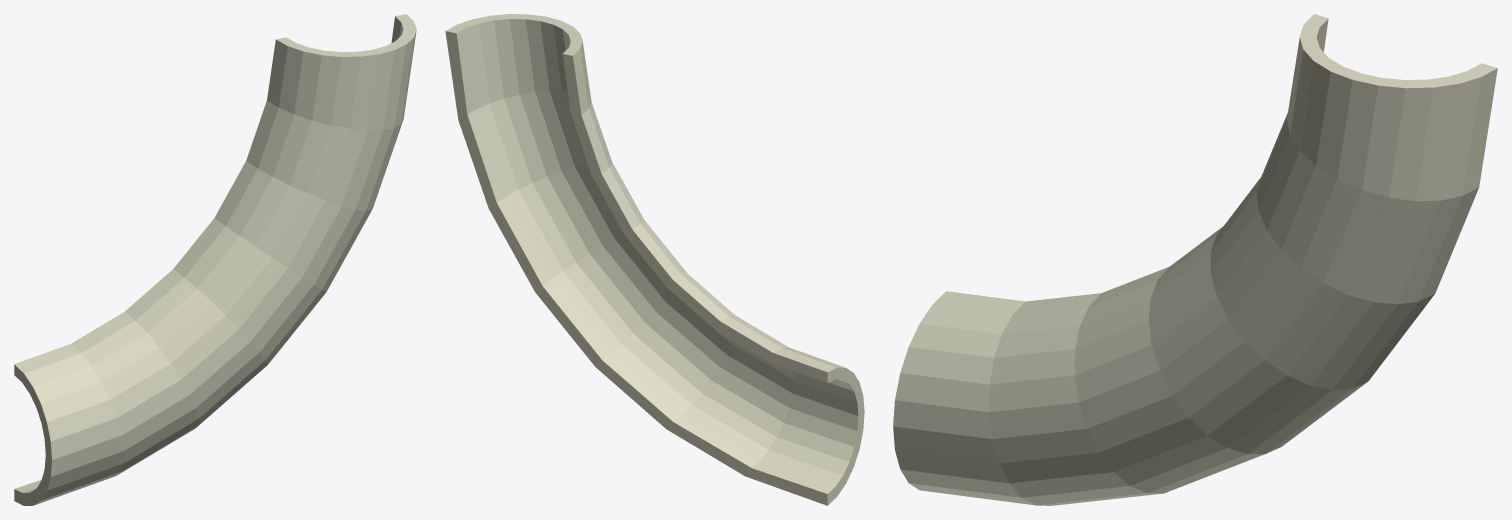
The model's file is section_422.obj.
3 renders of one model, left to right at view 1: azimuth 30°, elevation 25°; view 2: azimuth 150°, elevation 25°; view 3: azimuth 330°, elevation 25°, orthographic. The views are drawn at different scales.
Bounding box in the file's own units: 35.96 × 34.86 × 6.
